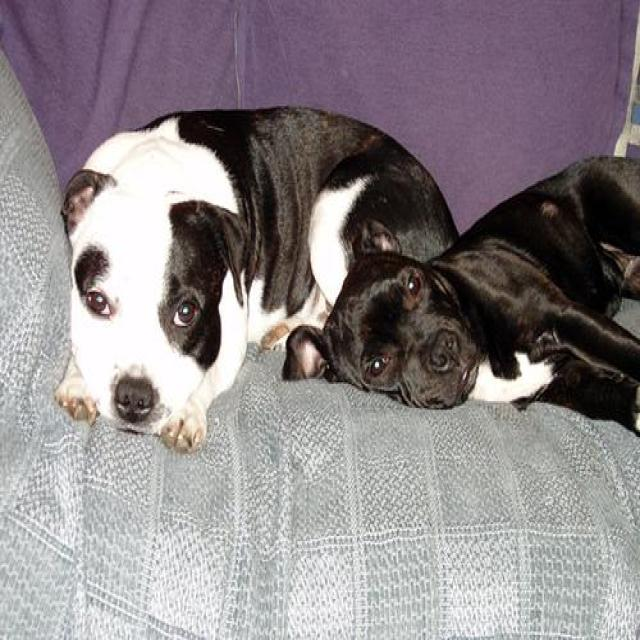staffordshire_bullterrier: (50, 92, 465, 469), (282, 154, 638, 440)
